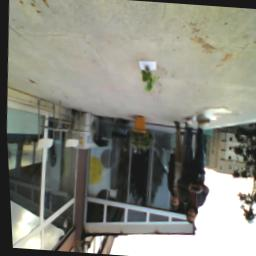herb: (138, 66, 157, 94)
